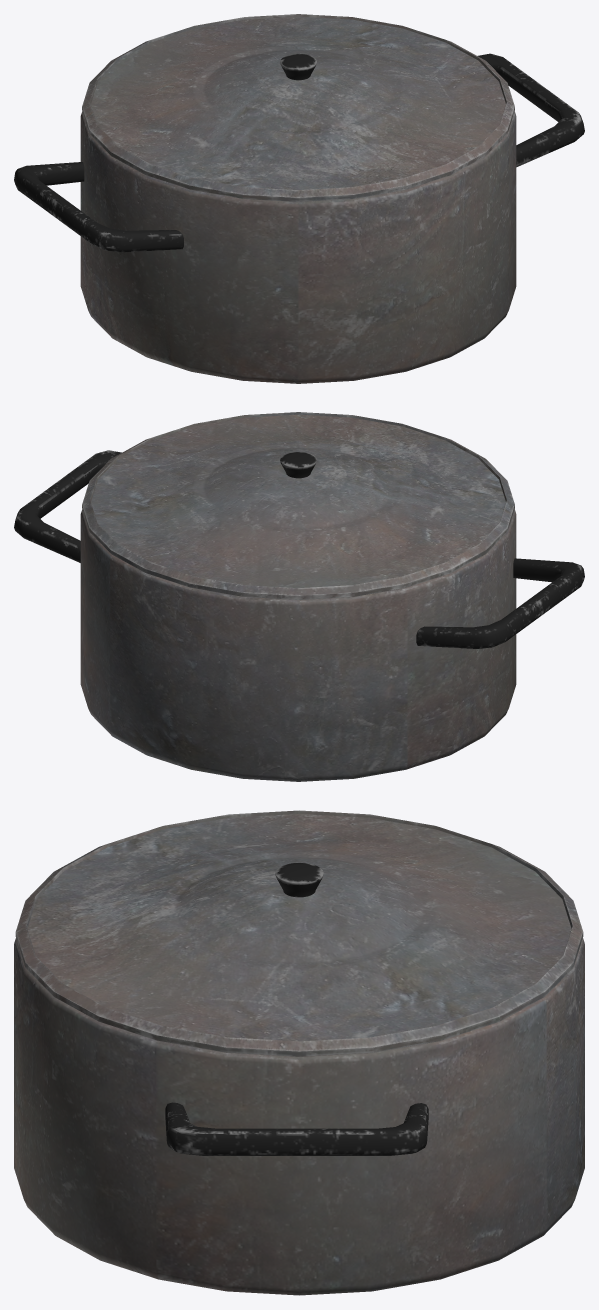
File: PotLid.fbx
The picture shows the model from 3 angles, top to bottom: view 1: azimuth 30°, elevation 25°; view 2: azimuth 150°, elevation 25°; view 3: azimuth 270°, elevation 25°; orthographic projection. The views are drawn at different scales.
Parts seen in each view (by area): view 1: Pot, Pot Lid; view 2: Pot, Pot Lid; view 3: Pot, Pot Lid.
Boxes of the visible parts, box(x1,y1,x2,y2) form: Pot: box(14, 53, 584, 383); Pot Lid: box(82, 14, 514, 201); Pot: box(14, 450, 584, 781); Pot Lid: box(82, 412, 514, 599); Pot: box(14, 938, 584, 1295); Pot Lid: box(15, 810, 583, 1056).
Bounding box in the file's own units: 21.53 × 9.94 × 16.63.
Materials: 1 (1 with a texture image).
